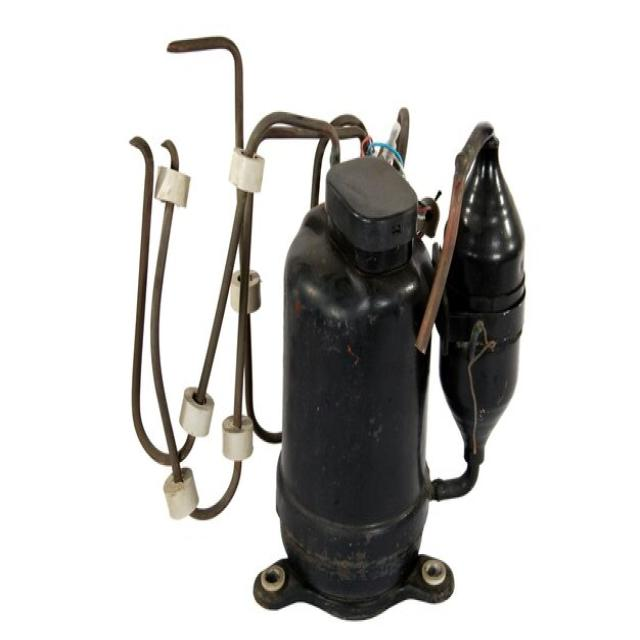compressor: (121, 33, 625, 626)
